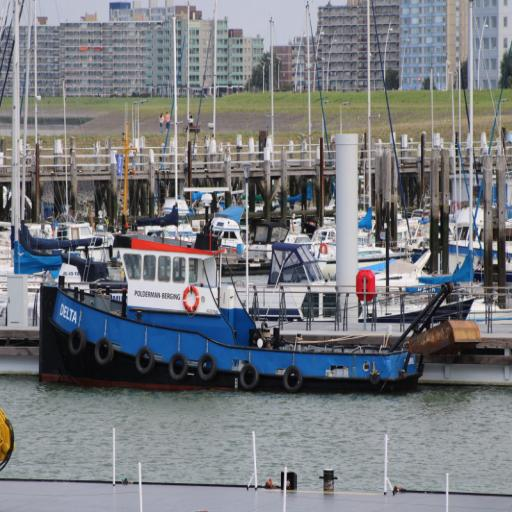tugboat: (38, 230, 486, 405)
